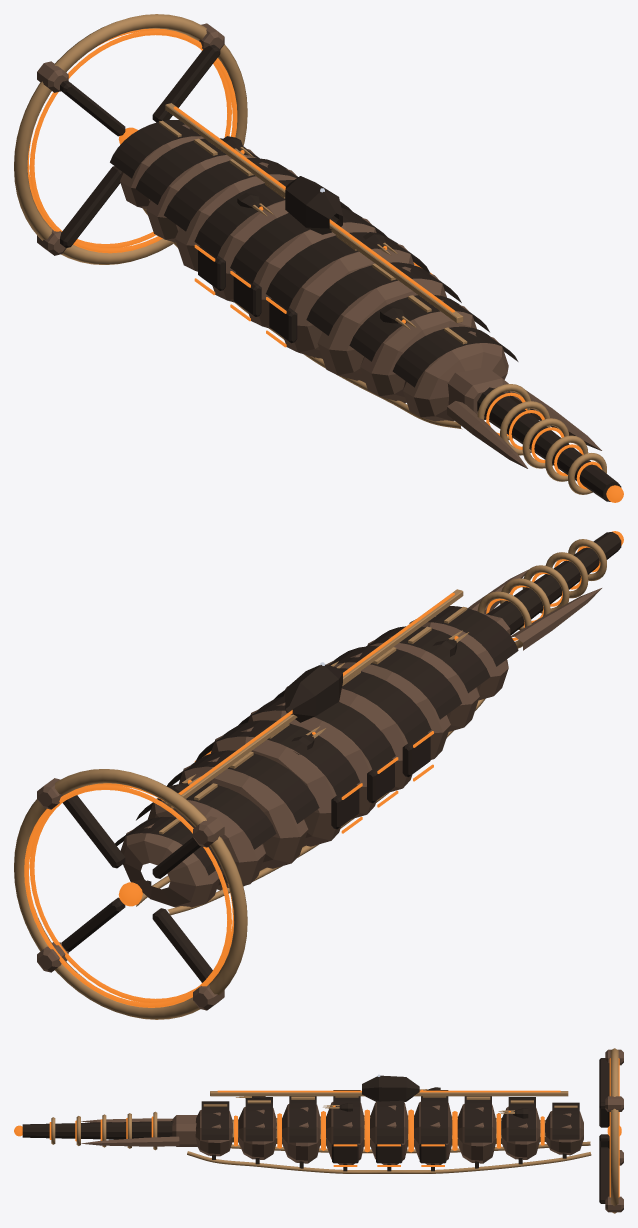
Rendered from flagship.glb.
3 renders of one model, top to bottom at view 1: azimuth 30°, elevation 25°; view 2: azimuth 150°, elevation 25°; view 3: azimuth 270°, elevation 25°, orthographic. The views are drawn at different scales.
Parts seen in each view (by area): view 1: hull2, hull, trim, team_glow; view 2: hull2, hull, trim, team_glow; view 3: hull2, hull, trim, team_glow.
Part boxes in pixels (bbox=[...]): hull2: bbox=[60, 44, 621, 501]; hull: bbox=[37, 23, 601, 468]; trim: bbox=[14, 14, 606, 494]; team_glow: bbox=[27, 28, 623, 502]; hull2: bbox=[61, 532, 621, 982]; hull: bbox=[37, 569, 601, 1010]; trim: bbox=[14, 539, 606, 1019]; team_glow: bbox=[24, 531, 623, 1007]; hull2: bbox=[22, 1058, 609, 1203]; hull: bbox=[81, 1049, 623, 1212]; trim: bbox=[51, 1048, 618, 1213]; team_glow: bbox=[14, 1058, 621, 1197].
Bounding box in the file's own units: 4.88 × 4.88 × 17.95.
